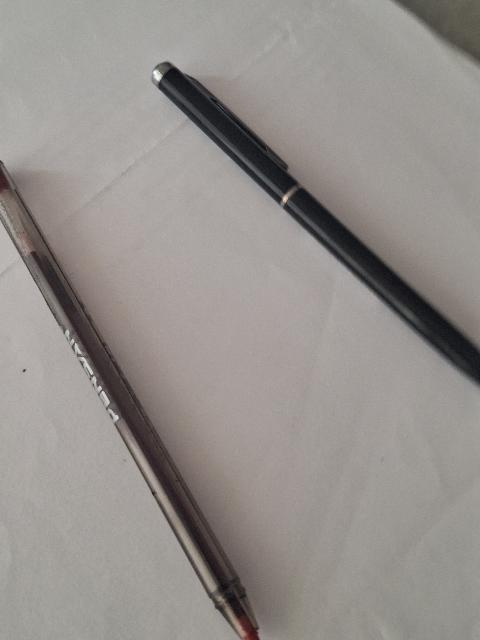writing_tool: (2, 163, 263, 640), (151, 58, 480, 387)
